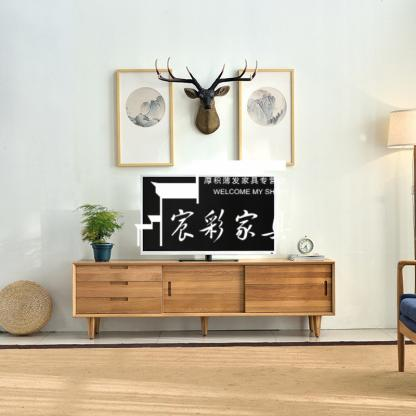TV stand: (75, 249, 340, 341)
